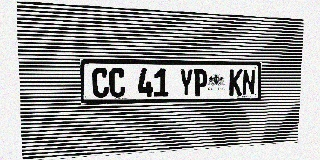1: (154, 68, 168, 97)
4: (138, 68, 153, 97)
C: (92, 68, 109, 98), (109, 68, 125, 98)
K: (229, 69, 242, 96)
N: (242, 69, 255, 95)
P: (193, 69, 208, 96)
Y: (179, 69, 193, 96)
